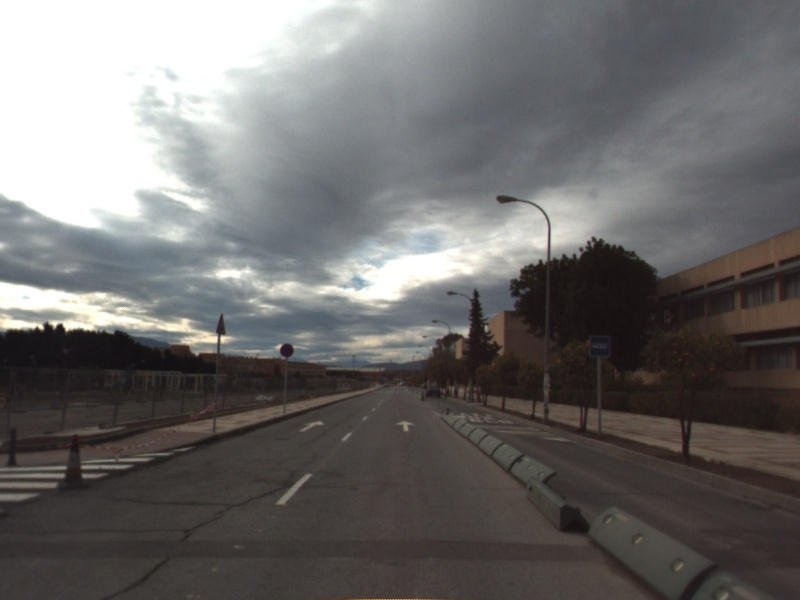STRAIGHT: (296, 418, 326, 434), (394, 418, 417, 433)
